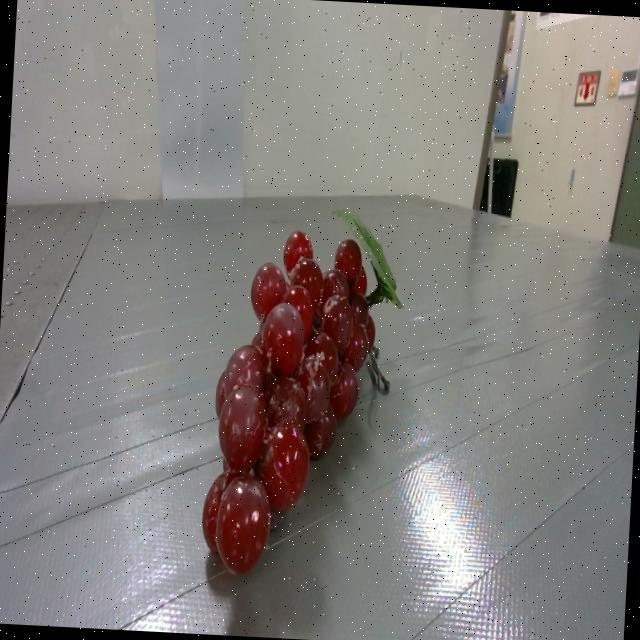grape: (202, 211, 399, 574)
